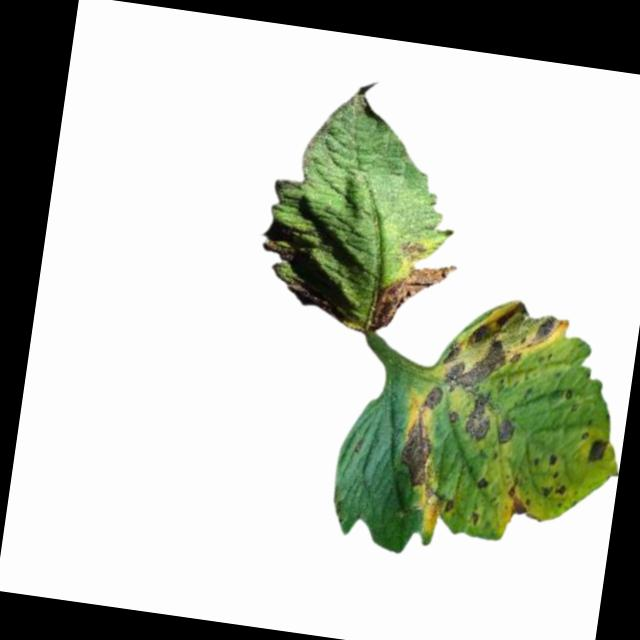Early_blight: (439, 290, 572, 405), (365, 254, 456, 340), (397, 415, 444, 492), (462, 393, 494, 445), (504, 475, 531, 517), (399, 235, 428, 261), (587, 435, 611, 466), (540, 478, 568, 500), (496, 416, 517, 445), (423, 383, 444, 410), (442, 496, 457, 513), (477, 473, 491, 490), (547, 451, 559, 468), (448, 410, 459, 422)
